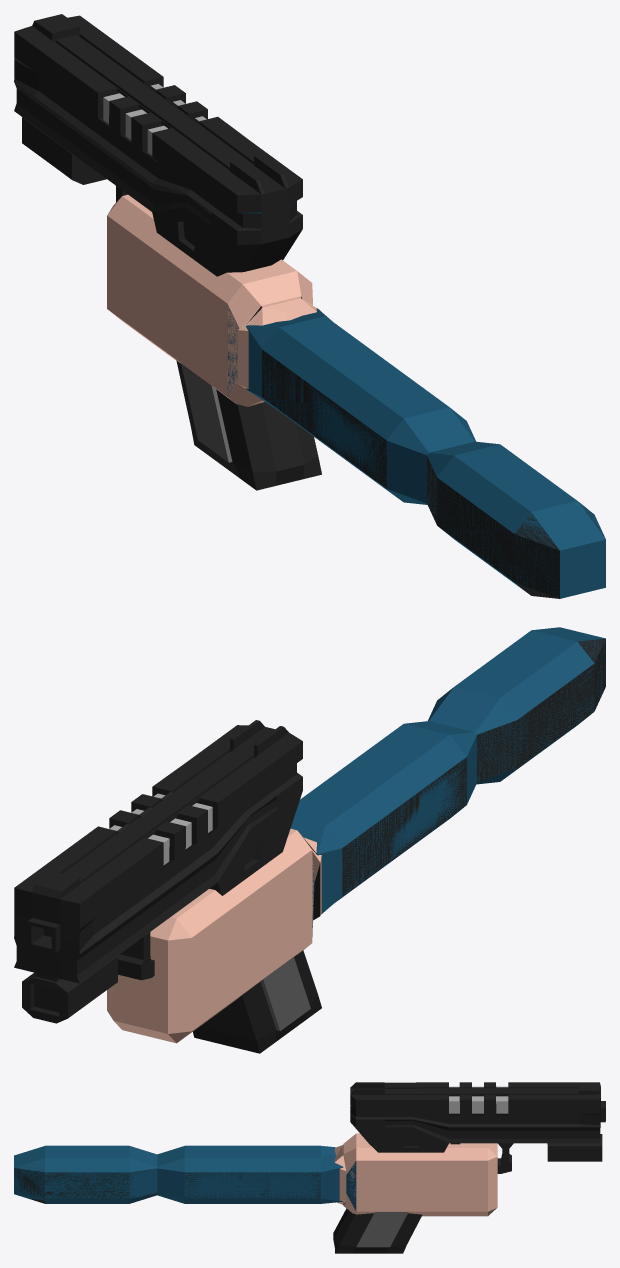
The model's file is gunhand 3.fbx.
3 renders of one model, top to bottom at view 1: azimuth 30°, elevation 25°; view 2: azimuth 150°, elevation 25°; view 3: azimuth 270°, elevation 25°, orthographic. The views are drawn at different scales.
Visible parts, largest first — view 1: Cube; view 2: Cube; view 3: Cube.
Part boxes in pixels (<box>): Cube: <box>14,14,605,598</box>; Cube: <box>14,627,605,1053</box>; Cube: <box>14,1082,605,1253</box>.
Size of the model in its own units: 82.53 by 271 by 914.
1 material, 1 textured.
